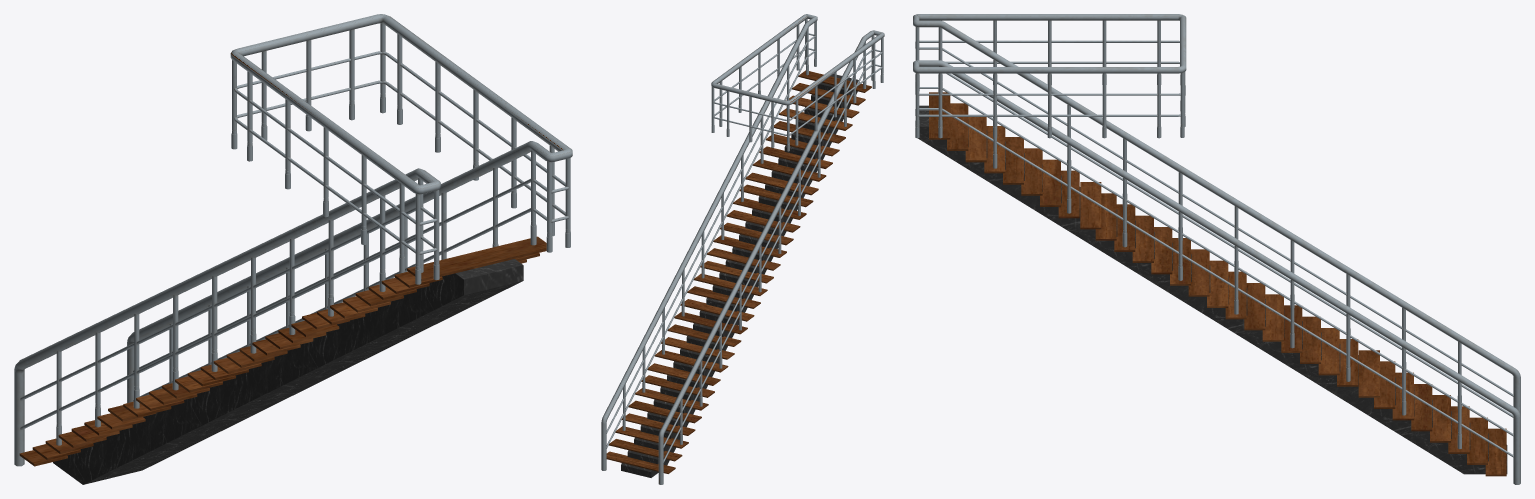
File: Cauthang.gltf
3 renders of one model, left to right at view 1: azimuth 30°, elevation 25°; view 2: azimuth 150°, elevation 25°; view 3: azimuth 270°, elevation 25°, orthographic. The views are drawn at different scales.
Parts seen in each view (by area): view 1: UCX_Cube.001; view 2: UCX_Cube.001; view 3: UCX_Cube.001.
Boxes of the visible parts, left/top/right/bottom form: UCX_Cube.001: left=14, top=14, right=572, bottom=484; UCX_Cube.001: left=601, top=14, right=884, bottom=484; UCX_Cube.001: left=913, top=14, right=1520, bottom=484.
Size of the model in its own units: 2.12 by 7.55 by 9.82.
1 material, 1 textured.
